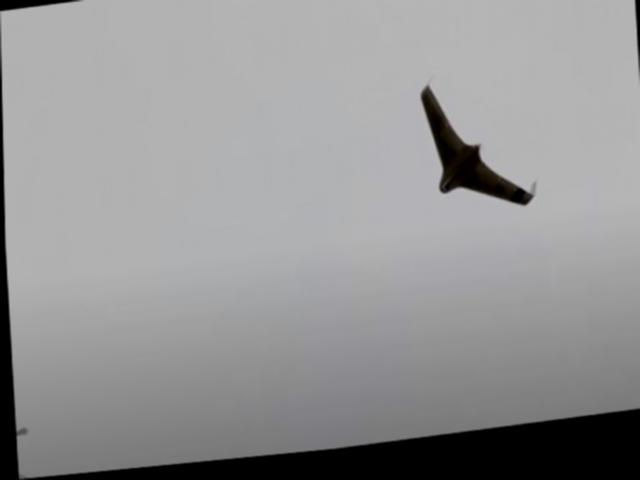iha: (413, 71, 540, 231)
